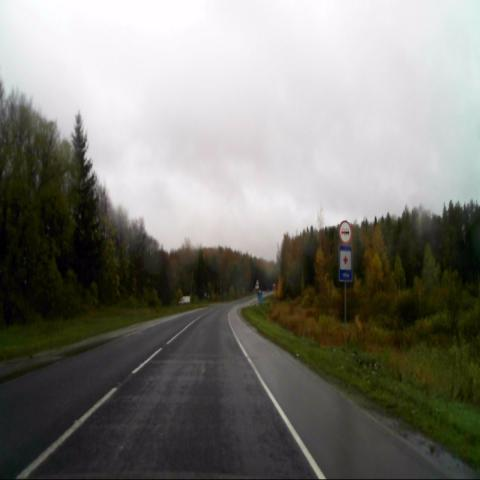7_1: (338, 247, 352, 283)
